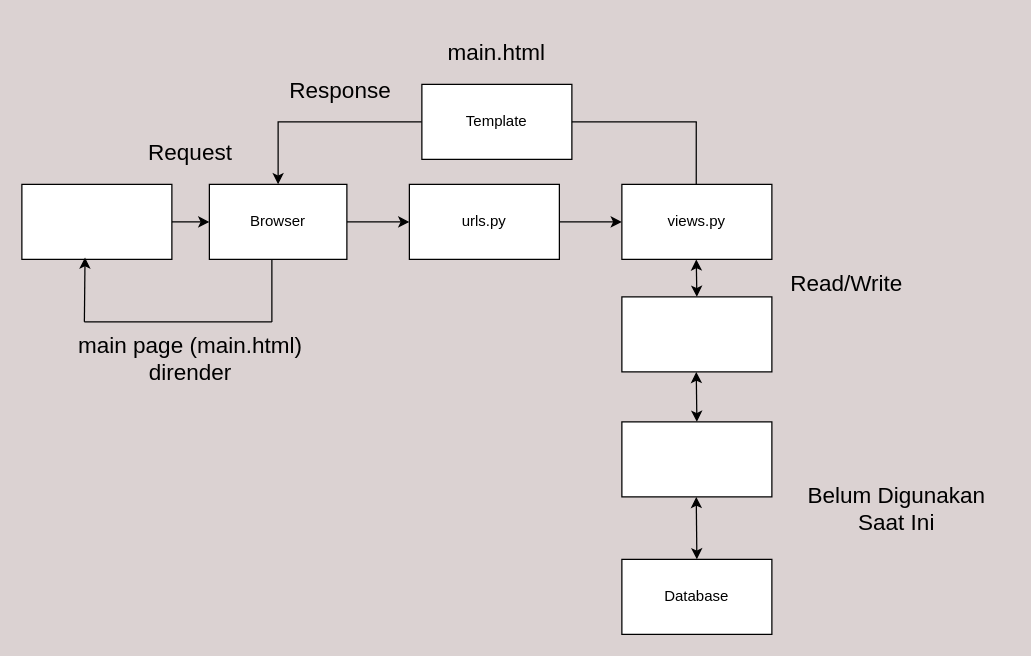
The diagram is 1031 pixels wide and 656 high, and some of its shapes have lost their labels. The centre of each missing label's shape, as x and y in pixels:
Client: [96,221]
models.py: [696,334]
ORM: [696,459]
